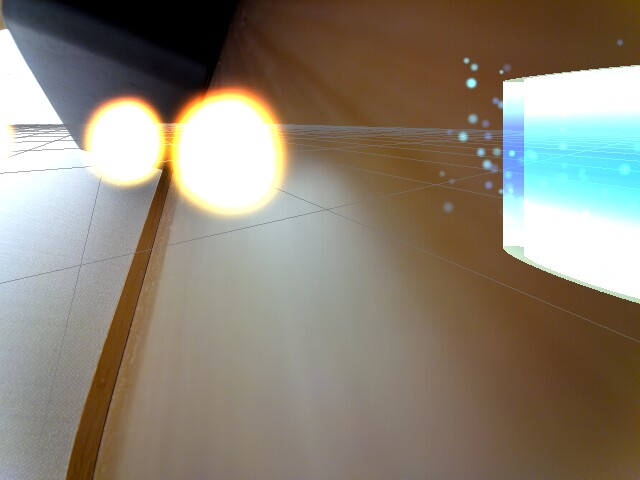firebig: (167, 66, 292, 227)
